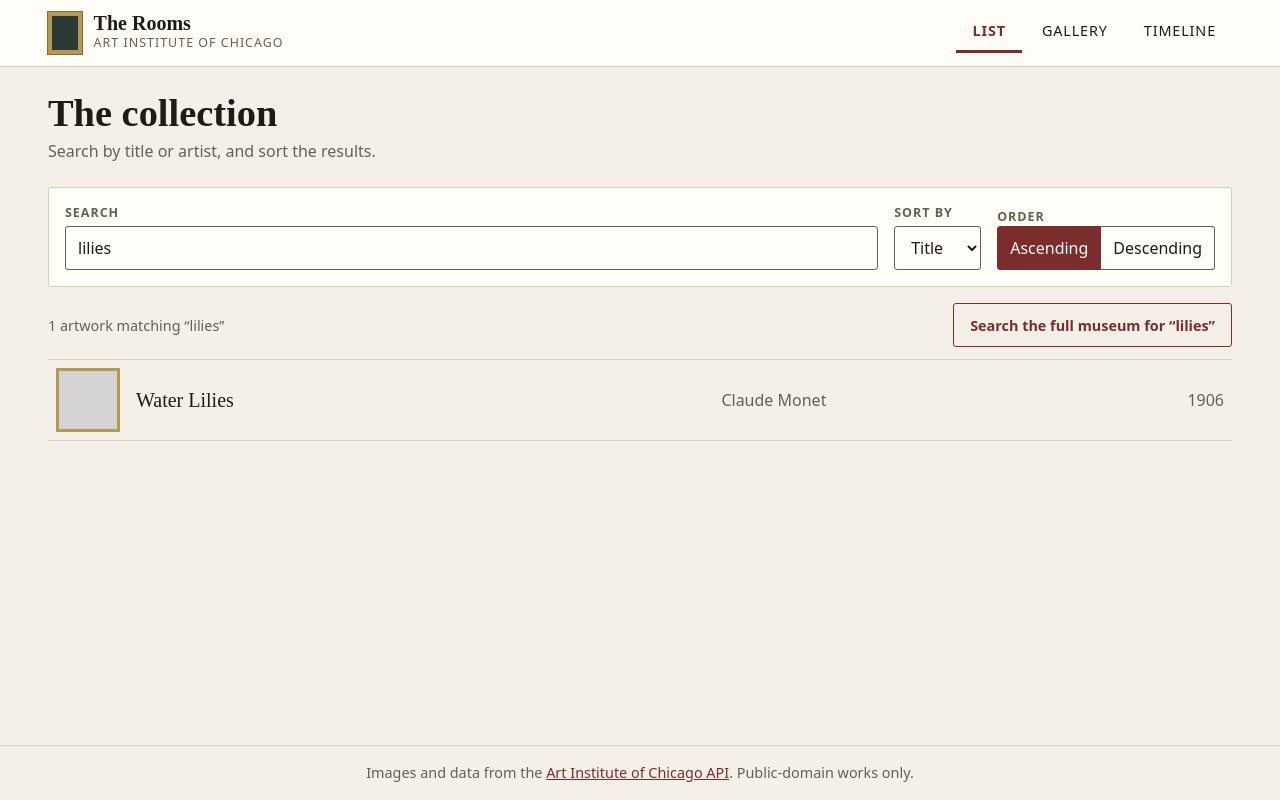
Test: ListView › shows a museum match that the plain text match would leave out
Check: the text "1 artwork matching “lilies”" is shown, box [48, 315, 224, 336]
Click the button "Search the full museum for “lilies”".
click(1093, 326)  # box [953, 304, 1232, 348]
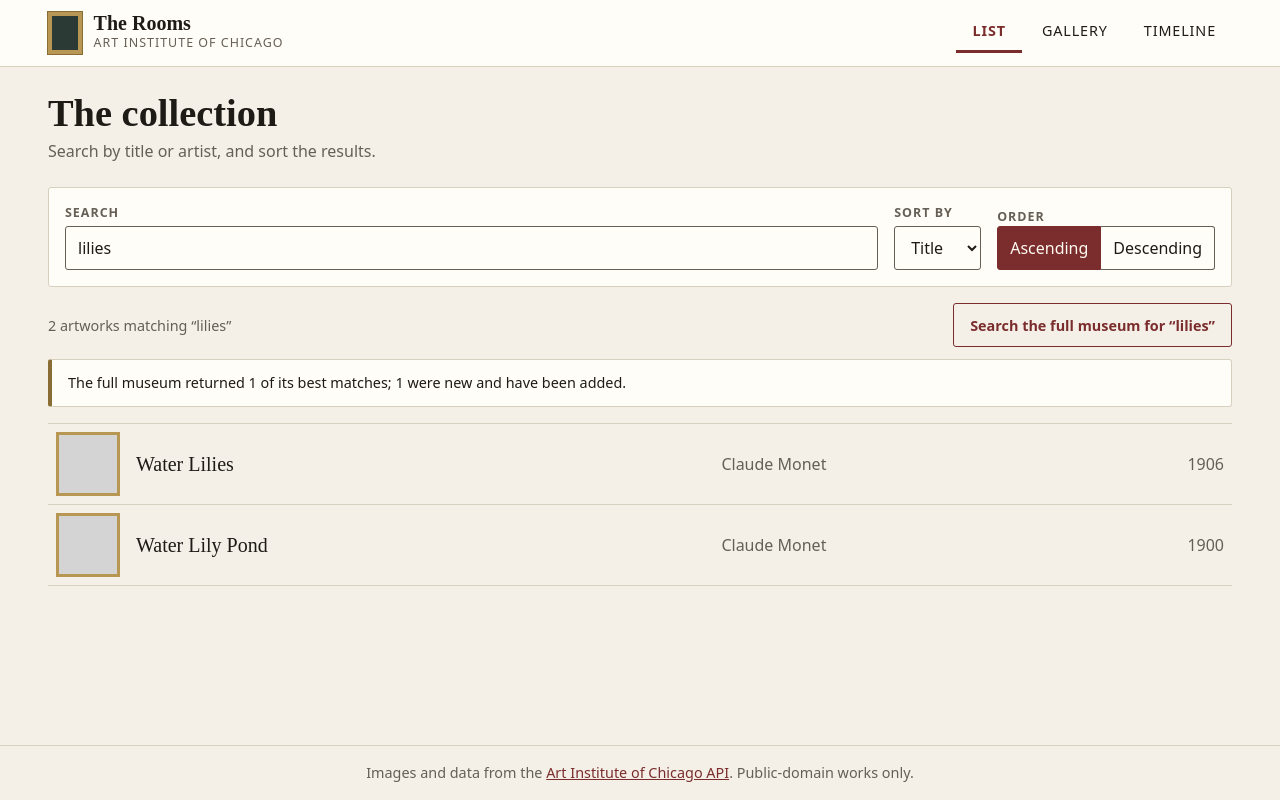
Check: the link "Water Lily Pond Claude Monet 1900" is shown, box [48, 505, 1232, 586]
